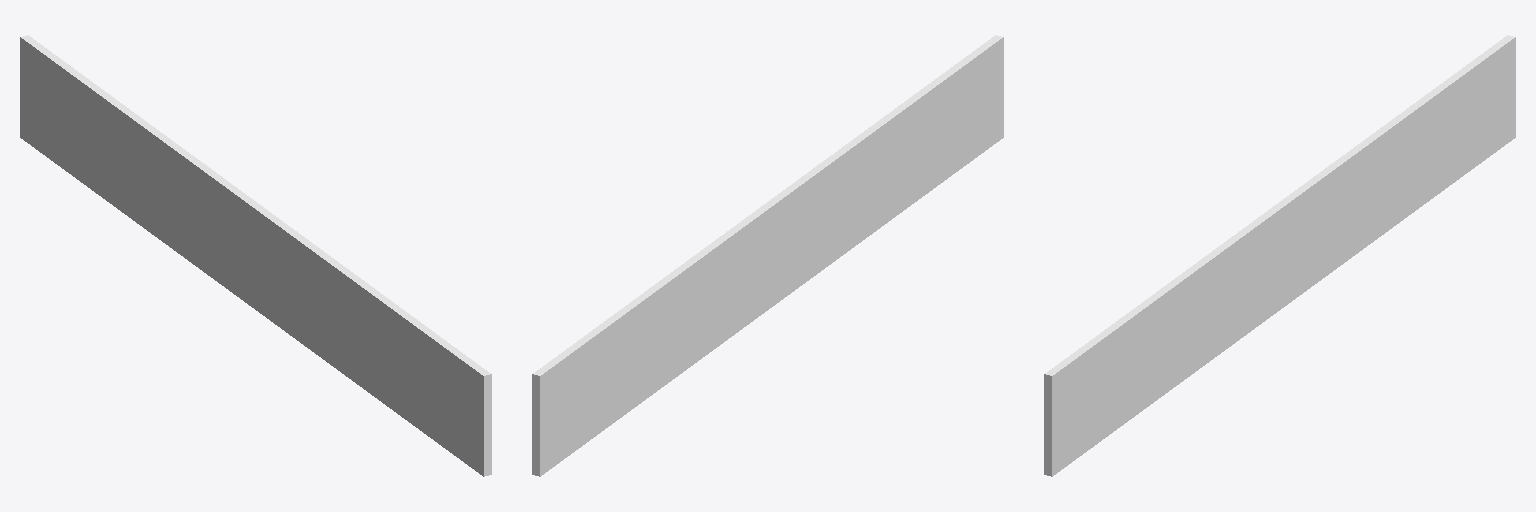
robot.urdf — tennis_net:
<?xml version="1.0"?>
<robot name="tennis_net">

  <link name="net_itself">
    <visual>
      <origin rpy="0 0 0" xyz="0 0 0"/>
      <geometry>
        <box size="0.05 5 0.6"/>
      </geometry>
      <material name="solid_color">
        <color rgba="1 1 1 1"/>
      </material>
    </visual>

    <collision>
      <geometry>
        <box size="0.05 5 0.6"/>
      </geometry>
    </collision>

    <inertial>
      <mass value="0"/>
      <inertia ixx="0.1" iyy="0.1" izz="0.1"/>
    </inertial>
  </link>

</robot>

--- What the picture shows (computed from the rendered views, not written in the file) ---
Views: 3 orthographic renders of the robot side by side, from view 1: azimuth 30°, elevation 25°; view 2: azimuth 150°, elevation 25°; view 3: azimuth 330°, elevation 25°.
Robot: tennis_net — 1 links, 0 joints (none); root link net_itself; default pose: all joints at 0.
Links seen in each view (by area): view 1: net_itself; view 2: net_itself; view 3: net_itself.
Boxes of the visible links, x1,y1,x2,y2 form: net_itself: (20, 35, 491, 476); net_itself: (532, 35, 1003, 476); net_itself: (1044, 35, 1515, 476).
Bounding box of the posed robot: 0.05 × 5 × 0.6 m (x, y, z).
Geometry: primitives only (box / cylinder / sphere), no mesh files.